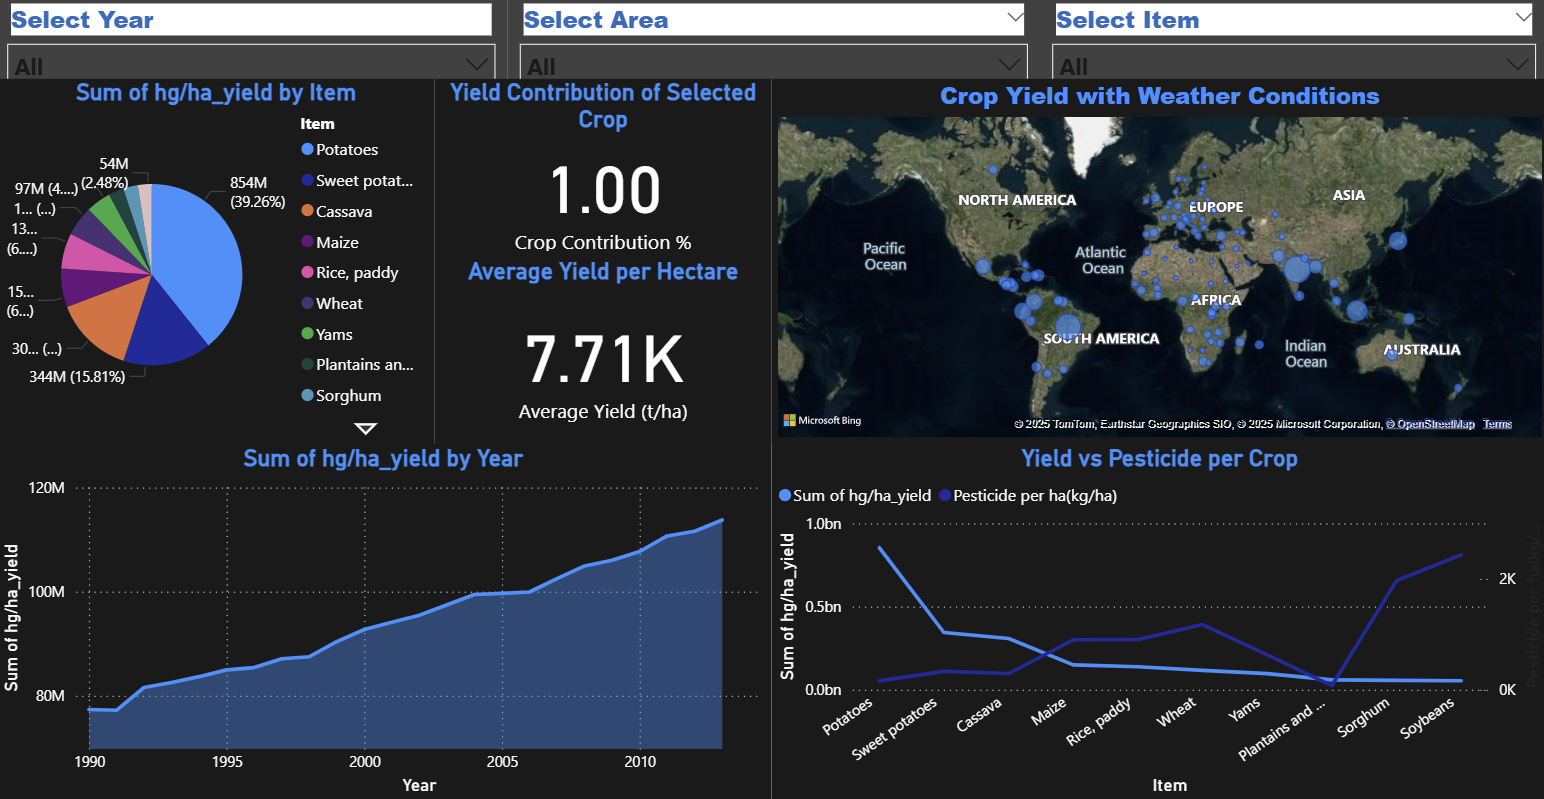

The page's visual inventory and layout, read from the dashboard file:
{"tool":"powerbi","page":{"name":"Page 1","canvas":[1280,720],"ordinal":0},"visuals":[{"type":"slicer","fields":{"Values":["cleaned_crop_yield.Year","cleaned_crop_yield.hg/ha_yield"]},"box":[0,58,422.2,67],"z":0},{"type":"lineChart","title":"Yield vs Pesticide per Crop","fields":{"Category":["cleaned_crop_yield.Item"],"Y":["Sum(cleaned_crop_yield.hg/ha_yield)"],"Y2":["cleaned_crop_yield.Pesticide per ha(kg/ha)"]},"box":[639.7,425.8,639.7,293.6],"z":1000},{"type":"areaChart","fields":{"Category":["cleaned_crop_yield.Year"],"Y":["Sum(cleaned_crop_yield.hg/ha_yield)"]},"box":[0,425.8,639.7,293.6],"z":2000},{"type":"slicer","fields":{"Values":["cleaned_crop_yield.Area","cleaned_crop_yield.hg/ha_yield"]},"box":[422.2,58,438.5,67],"z":3000},{"type":"slicer","fields":{"Values":["cleaned_crop_yield.Item","cleaned_crop_yield.hg/ha_yield"]},"box":[860.8,58,418.6,67],"z":4000},{"type":"map","title":"Crop Yield with Weather Conditions","fields":{"Category":["cleaned_crop_yield.Area"],"Size":["Sum(cleaned_crop_yield.average_rain_fall_mm_per_year)"]},"box":[639.7,125,639.7,300.8],"z":5000},{"type":"pieChart","fields":{"Y":["Sum(cleaned_crop_yield.hg/ha_yield)"],"Category":["cleaned_crop_yield.Item"]},"box":[1.8,125,360.6,300.8],"z":6000},{"type":"card","title":"Yield Contribution of Selected Crop","fields":{"Values":["cleaned_crop_yield.Crop Contribution %"]},"box":[362.4,125,277.3,146.8],"z":7000},{"type":"actionButton","box":[0,0,100,40],"z":8000},{"type":"card","title":"Average Yield per Hectare","fields":{"Values":["cleaned_crop_yield.Average Yield (t/ha)"]},"box":[362.4,271.8,277.3,154],"z":9000}]}

Visuals, with their boxes on the page's 1280x720 design canvas (x1, y1, x2, y2). These are canvas units, not pixel positions in the 1544x799 screenshot, which may show the page scaled, cropped or inside an application window:
slicer - cleaned_crop_yield.Year x cleaned_crop_yield.hg/ha_yield: region(0, 58, 422, 125)
"Yield vs Pesticide per Crop" lineChart: region(640, 426, 1279, 719)
areaChart - cleaned_crop_yield.Year x Sum(cleaned_crop_yield.hg/ha_yield): region(0, 426, 640, 719)
slicer - cleaned_crop_yield.Area x cleaned_crop_yield.hg/ha_yield: region(422, 58, 861, 125)
slicer - cleaned_crop_yield.Item x cleaned_crop_yield.hg/ha_yield: region(861, 58, 1279, 125)
"Crop Yield with Weather Conditions" map: region(640, 125, 1279, 426)
pieChart - Sum(cleaned_crop_yield.hg/ha_yield) x cleaned_crop_yield.Item: region(2, 125, 362, 426)
"Yield Contribution of Selected Crop" card: region(362, 125, 640, 272)
actionButton: region(0, 0, 100, 40)
"Average Yield per Hectare" card: region(362, 272, 640, 426)
